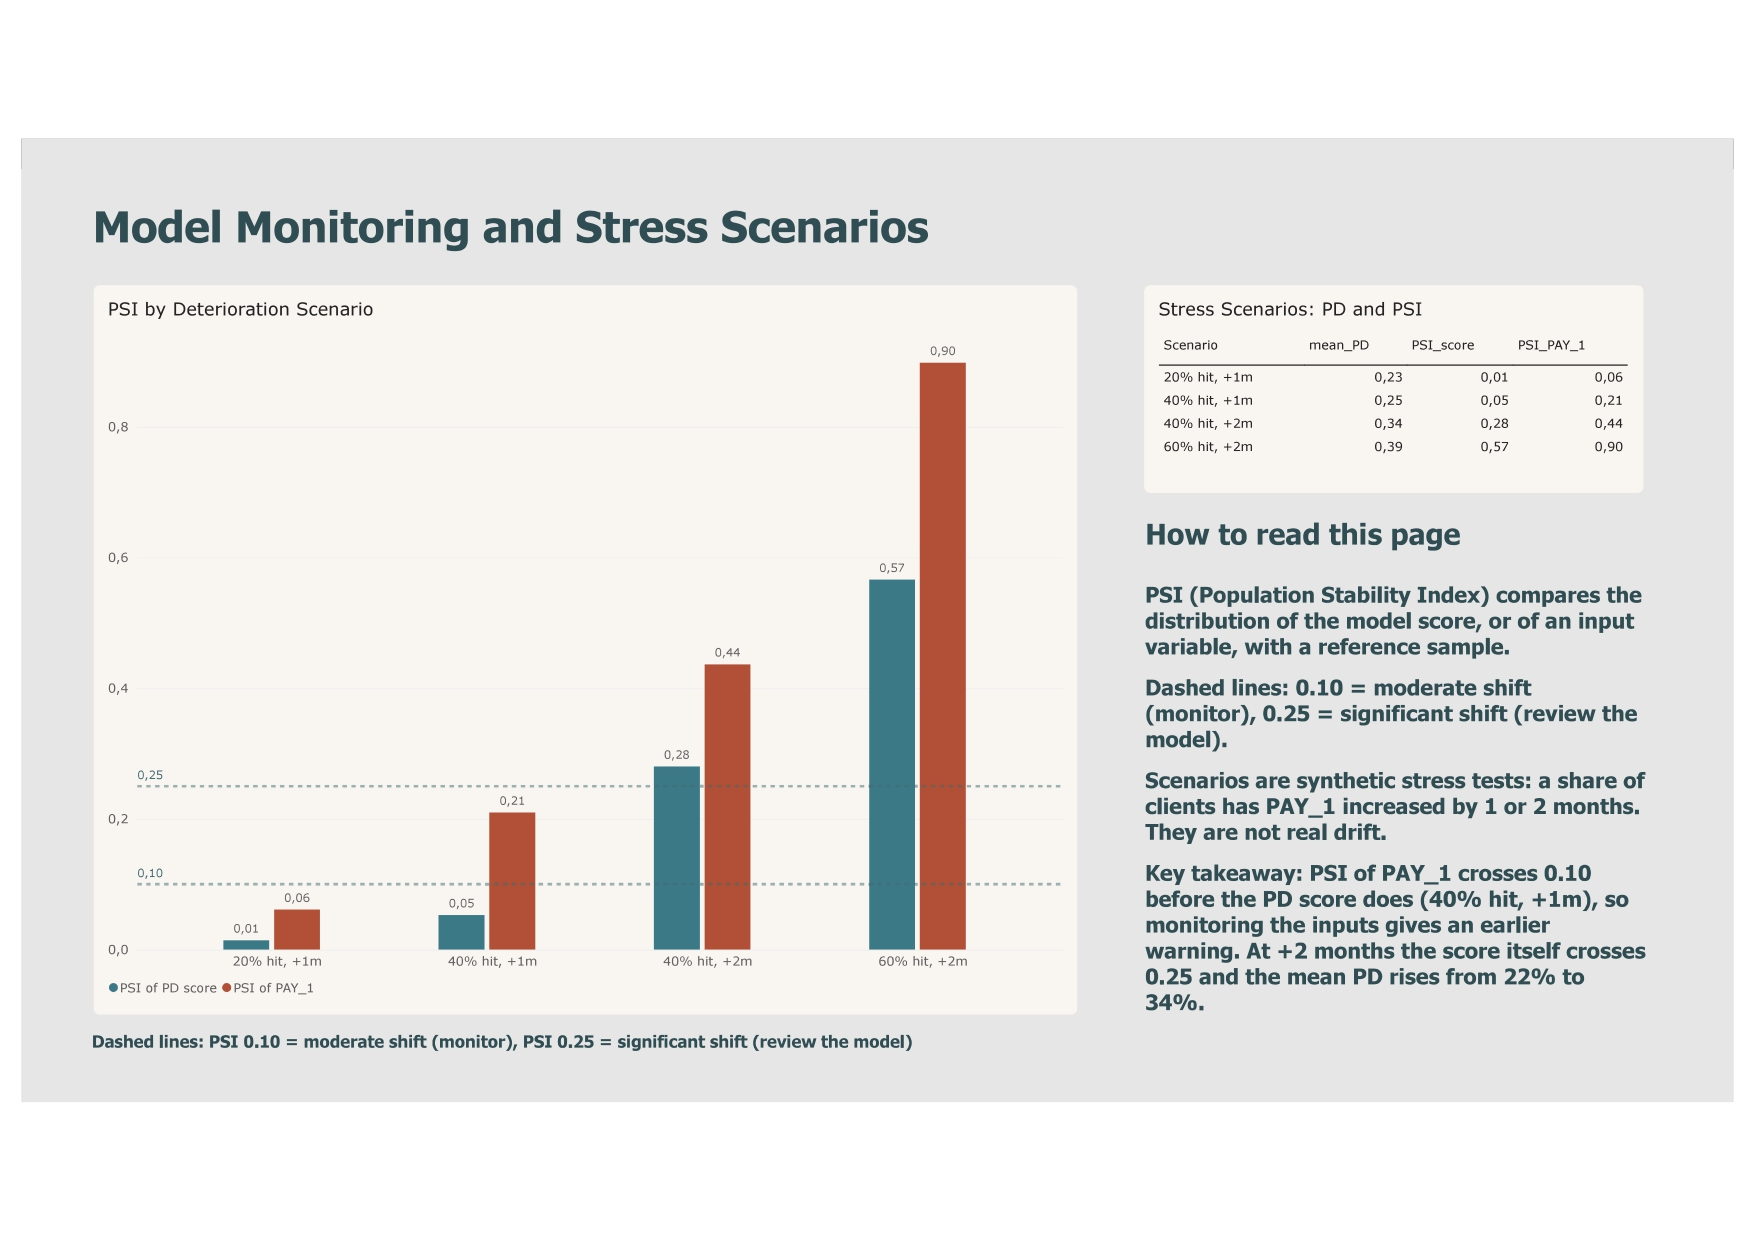

What the dashboard file says about the page in this screenshot:
{"tool":"powerbi","page":{"name":"Monitoring","canvas":[1920,1080],"ordinal":2},"visuals":[{"type":"tableEx","title":"Stress Scenarios: PD and PSI","fields":{"Values":["stress_scenarios.Scenario","stress_scenarios.mean_PD","stress_scenarios.PSI_score","stress_scenarios.PSI_PAY_1"]},"box":[1257.6,162.5,562.5,235],"z":0},{"type":"clusteredColumnChart","title":"PSI by Deterioration Scenario","fields":{"Category":["stress_scenarios.Scenario"],"Y":["Sum(stress_scenarios.PSI_score)","Sum(stress_scenarios.PSI_PAY_1)"]},"box":[80.1,162.5,1105,820],"z":1000},{"type":"textbox","box":[79.5,1000.3,1105.3,45.3],"z":2000},{"type":"textbox","box":[1260.1,422.5,562.5,560],"z":3000},{"type":"textbox","box":[80.1,67.5,1105,120],"z":3001}]}

Visuals, with their boxes on the page's 1920x1080 design canvas (x1, y1, x2, y2). These are canvas units, not pixel positions in the 1755x1241 screenshot, which may show the page scaled, cropped or inside an application window:
"Stress Scenarios: PD and PSI" tableEx: 1258 162 1820 398
"PSI by Deterioration Scenario" clusteredColumnChart: 80 162 1185 982
textbox: 80 1000 1185 1046
textbox: 1260 422 1823 982
textbox: 80 68 1185 188
